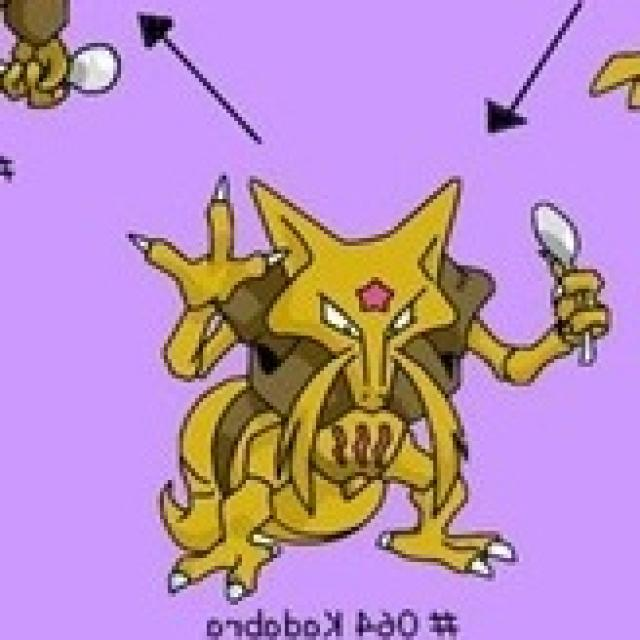Kadabra: (172, 182, 494, 580)
